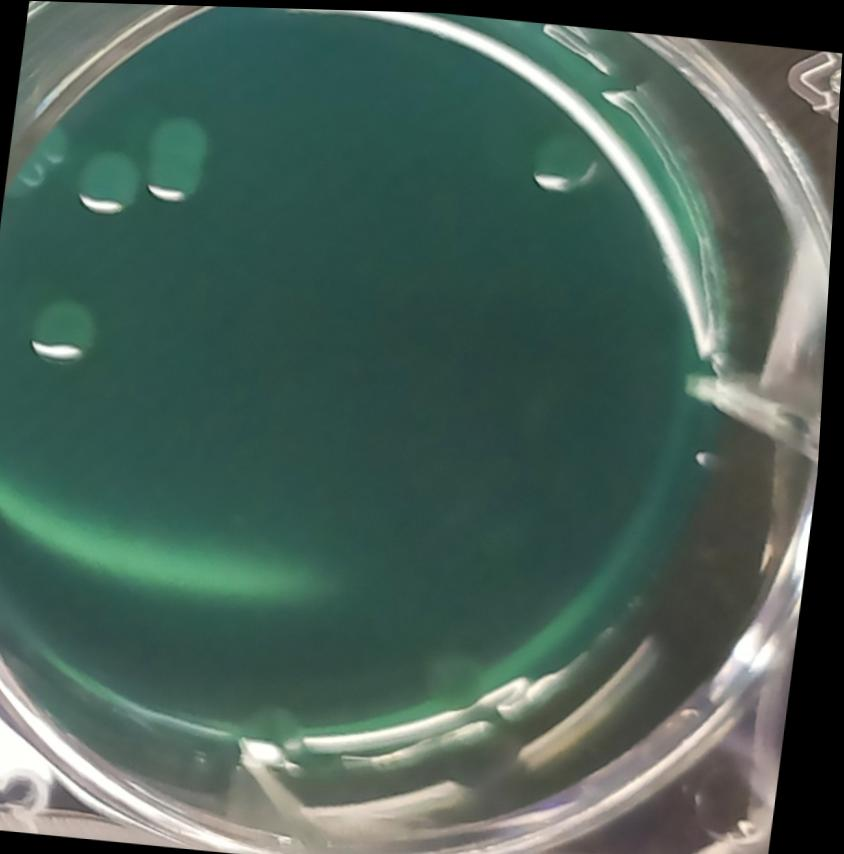vproteolyticus: (16, 280, 112, 379), (137, 104, 222, 209), (518, 123, 604, 206), (70, 142, 149, 221)
